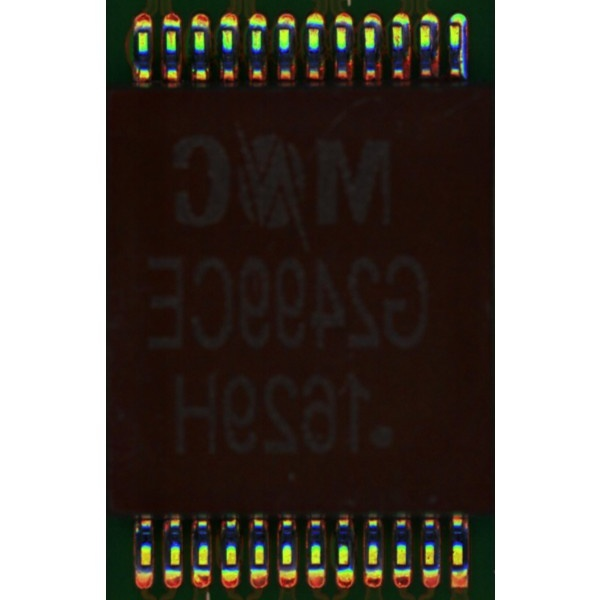Bad_qiaojiao: (460, 29, 466, 78)
